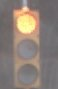Red: (8, 9, 42, 89)
